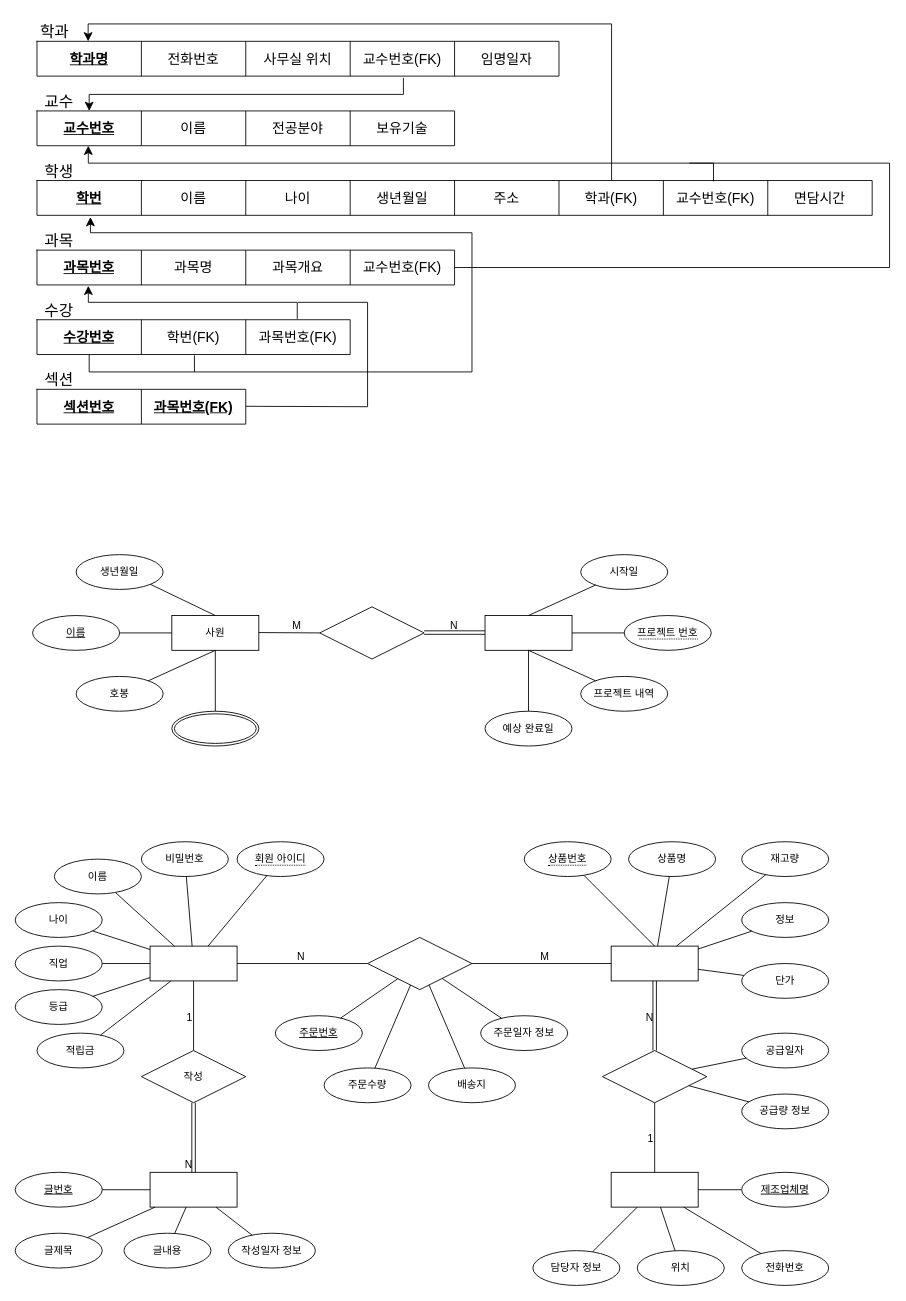
This 906x1301 diagram has some shape labels left out. The shapes that lost their labels are listed below. From the top down, each one's centre as x and y in pixels, then its label:
At point (371, 632): "배정".
At point (528, 632): "프로젝트".
At point (215, 728): "특기".
At point (193, 963): "회원".
At point (419, 963): "주문".
At point (654, 963): "상품".
At point (654, 1076): "공급".
At point (193, 1189): "게시글".
At point (654, 1189): "제조업체".
